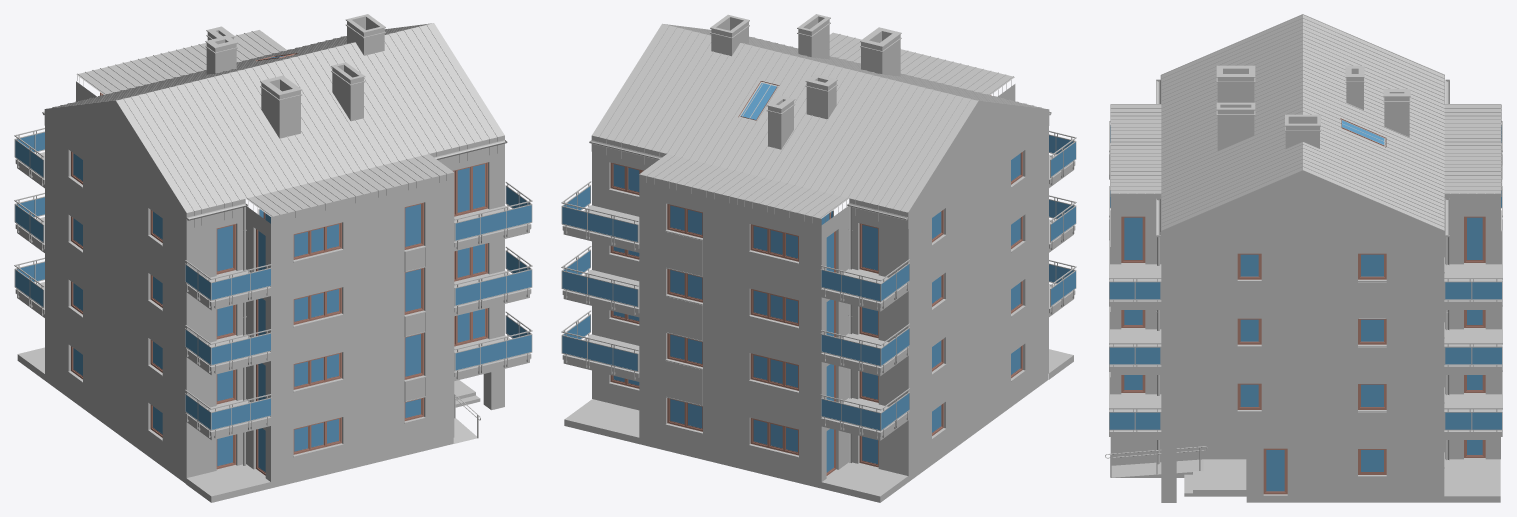
The model's file is building_04.glb.
3 renders of one model, left to right at view 1: azimuth 30°, elevation 25°; view 2: azimuth 150°, elevation 25°; view 3: azimuth 270°, elevation 25°, orthographic.
Parts seen in each view (by area): view 1: building_walls, roof, foundation_wall, window_005, barrels, chimney, balcony, metal_cover, terrace, boards, eneter_floor, gutters_003; view 2: building_walls, roof, foundation_wall, window_005, barrels, chimney, balcony, terrace, boards_001, metal_cover, window_roof, gutters_003; view 3: building_walls, roof, foundation_wall, window_005, barrels, balcony, chimney, boards_001, eneter_floor, terrace, metal_cover, roof_plate (+3 smaller).
Boxes of the visible parts, <box> form: building_walls: <box>45,81,504,417</box>; roof: <box>44,23,504,229</box>; foundation_wall: <box>45,310,454,488</box>; window_005: <box>68,92,487,475</box>; barrels: <box>14,128,532,438</box>; chimney: <box>205,14,385,138</box>; balcony: <box>17,152,529,440</box>; metal_cover: <box>15,152,531,436</box>; terrace: <box>17,347,270,502</box>; boards: <box>404,246,426,402</box>; eneter_floor: <box>453,380,480,443</box>; gutters_003: <box>42,111,507,220</box>; building_walls: <box>592,84,1048,417</box>; roof: <box>591,23,1049,228</box>; foundation_wall: <box>592,309,1048,488</box>; window_005: <box>609,95,1025,475</box>; barrels: <box>561,130,1076,438</box>; chimney: <box>710,14,901,149</box>; balcony: <box>563,155,1073,440</box>; terrace: <box>564,349,1073,502</box>; boards_001: <box>665,232,702,406</box>; metal_cover: <box>562,155,1075,436</box>; window_roof: <box>738,81,779,120</box>; gutters_003: <box>589,111,1051,220</box>; building_walls: <box>1110,179,1500,502</box>; roof: <box>1110,14,1501,246</box>; foundation_wall: <box>1110,431,1500,502</box>; window_005: <box>1110,165,1502,496</box>; barrels: <box>1109,121,1502,438</box>; balcony: <box>1110,263,1500,439</box>; chimney: <box>1216,65,1410,151</box>; boards_001: <box>1358,213,1501,448</box>; eneter_floor: <box>1111,459,1246,496</box>; terrace: <box>1444,458,1500,502</box>; metal_cover: <box>1109,145,1501,436</box>; roof_plate: <box>1110,193,1500,200</box>.
Bounding box in the file's own units: 15.55 × 16.11 × 16.63.
